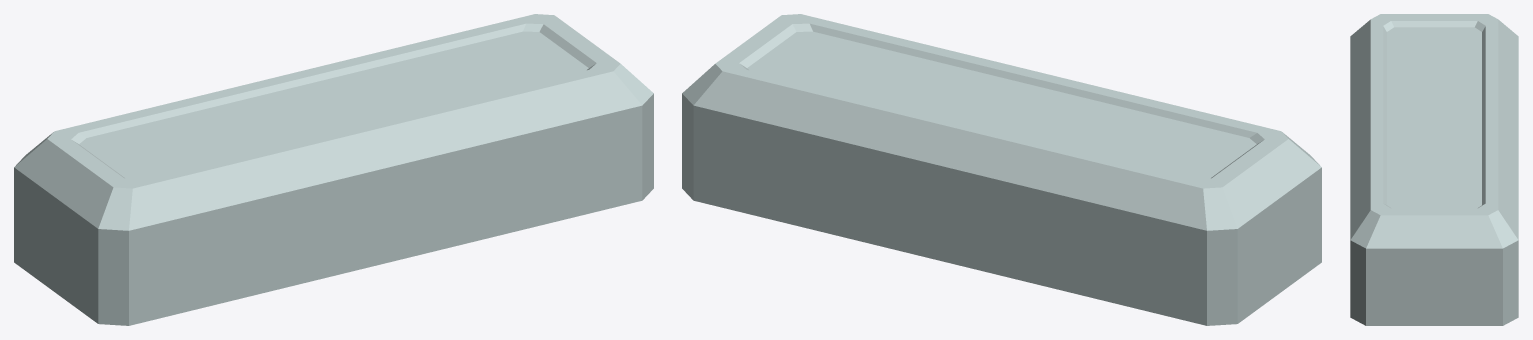
File: SilverIngotB.fbx
The picture shows the model from 3 angles, left to right: view 1: azimuth 30°, elevation 25°; view 2: azimuth 150°, elevation 25°; view 3: azimuth 270°, elevation 25°; orthographic projection. The views are drawn at different scales.
Visible parts, largest first — view 1: SilverIngotB; view 2: SilverIngotB; view 3: SilverIngotB.
Part boxes in pixels (box(x1,y1,x2,y2)): SilverIngotB: box(14, 14, 653, 325); SilverIngotB: box(682, 14, 1321, 325); SilverIngotB: box(1350, 14, 1518, 325).
Size of the model in its own units: 61.45 by 13.13 by 19.8.
